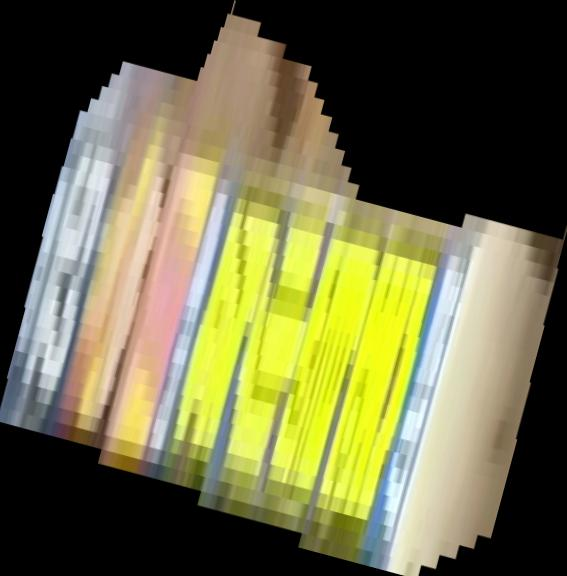flat: (1, 1, 567, 576)
